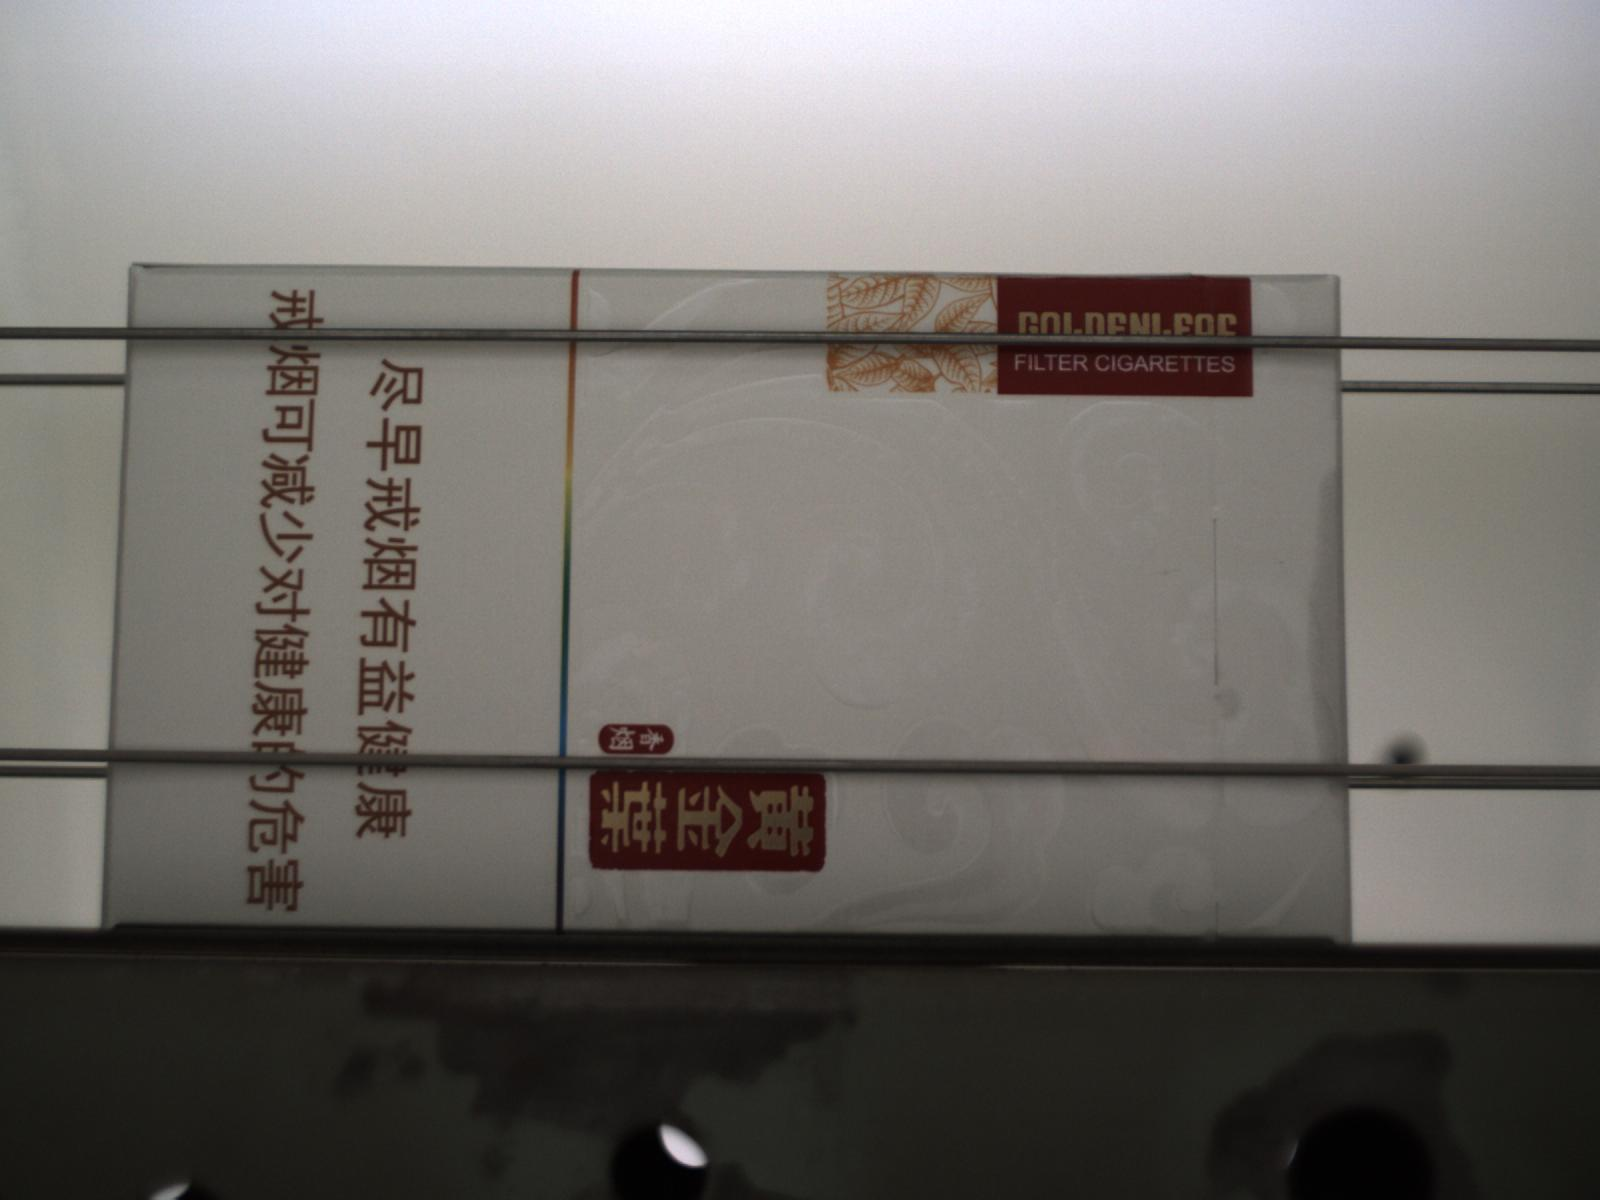areaOil: (1303, 466, 1353, 803), (1213, 684, 1243, 721)
